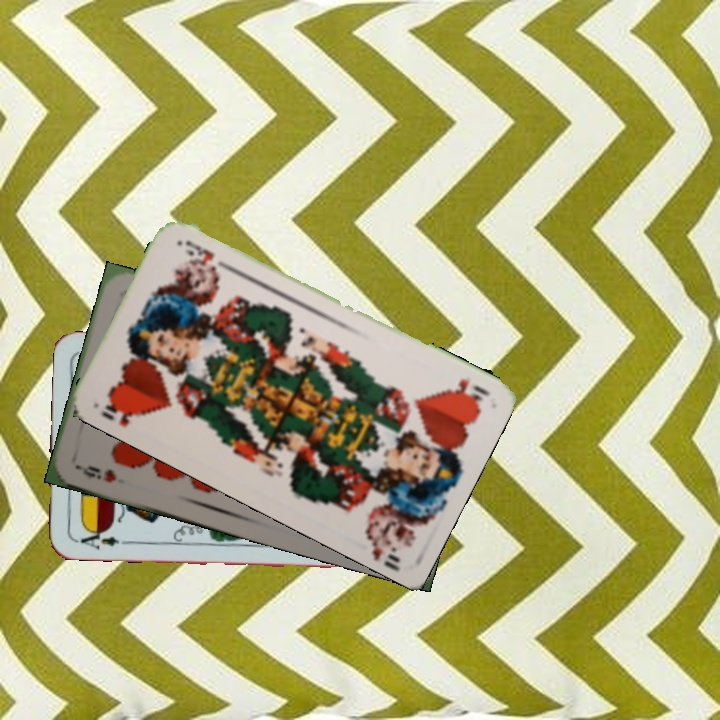EA: (71, 525, 122, 552)
H9: (74, 461, 119, 485)
HO: (96, 393, 148, 430), (450, 374, 492, 404)
